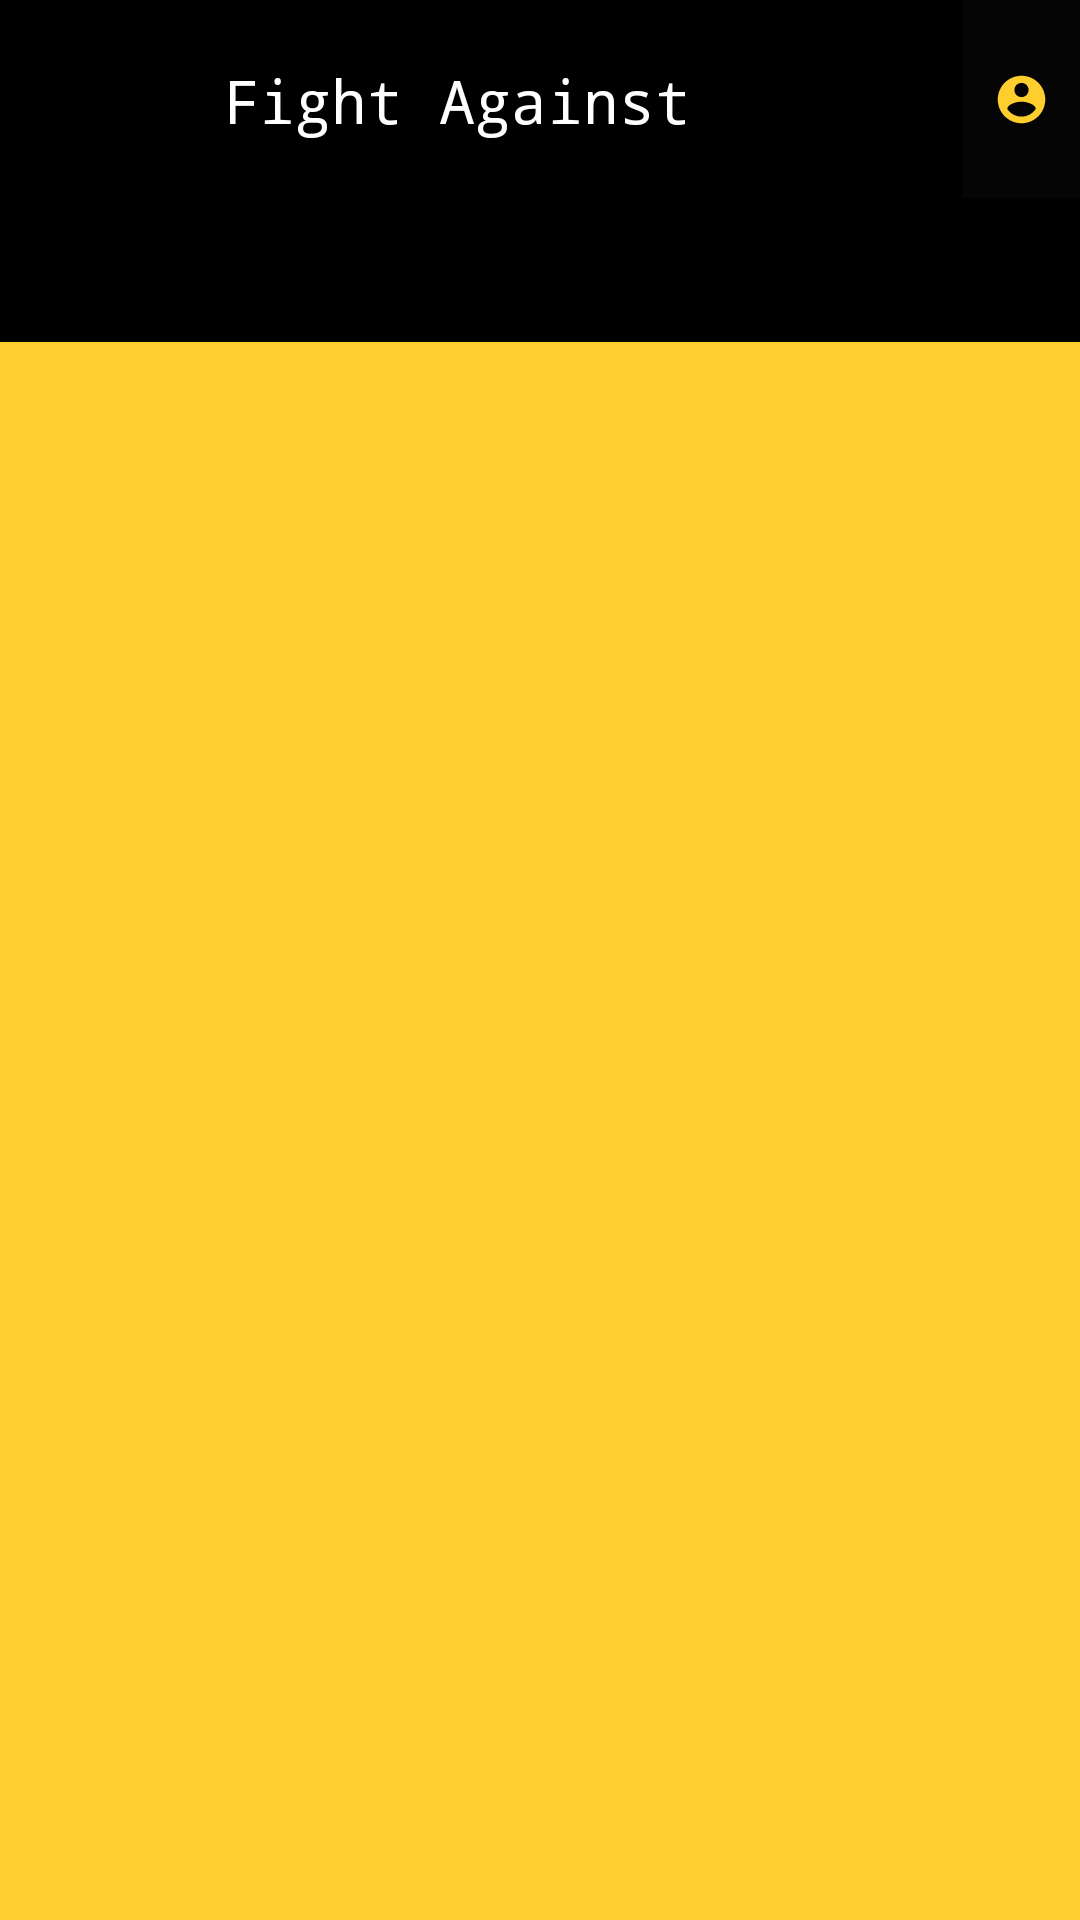

Screen size 1080px×1920px. Icon name, then its box in pixels as (x1, y1, x2, y2):
profile: (997, 75, 1046, 124)
